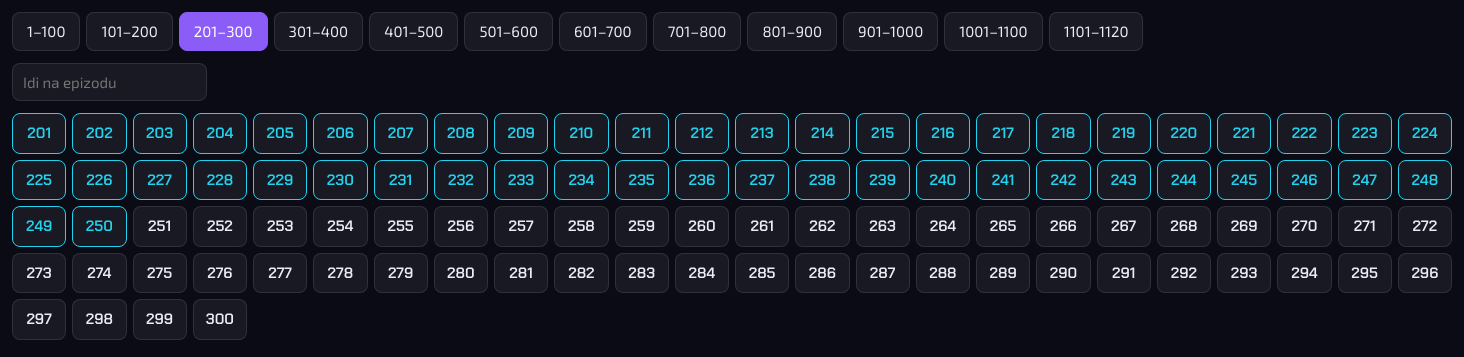
Scenario: EpisodePicker › opens the group with the first unwatched episode in long series
Expected: the button "251" is shown, x1=132 y1=206 x2=187 y2=246
Click the button "1101–1120": (1096, 31) x1=1049 y1=12 x2=1144 y2=50
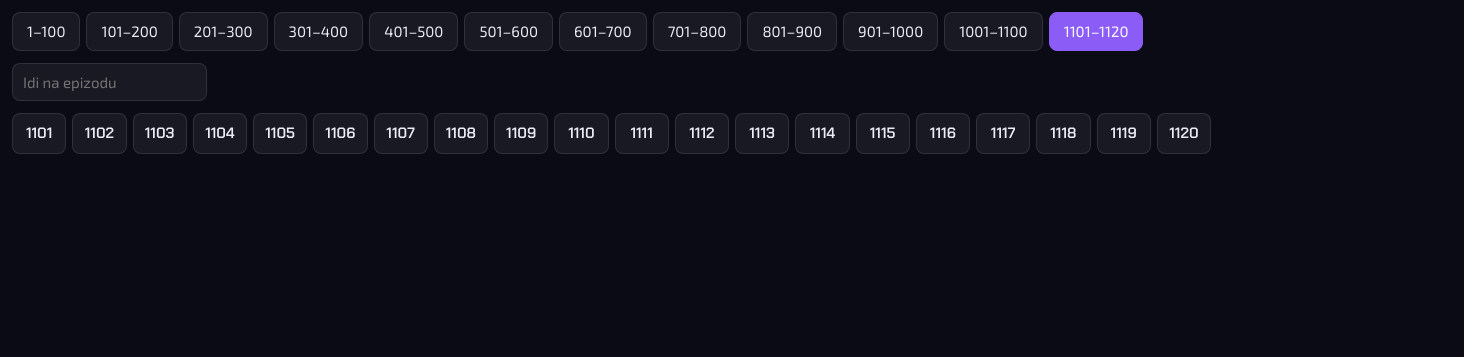
Expected: the number of buttons "1101" is 20
